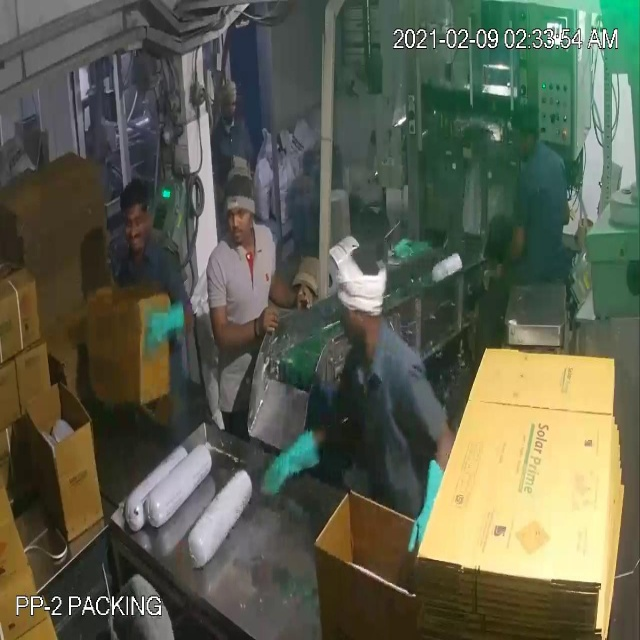Guantes: (260, 422, 324, 512), (141, 303, 189, 352)
Sin_guantes: (200, 289, 279, 360), (265, 272, 317, 325)
